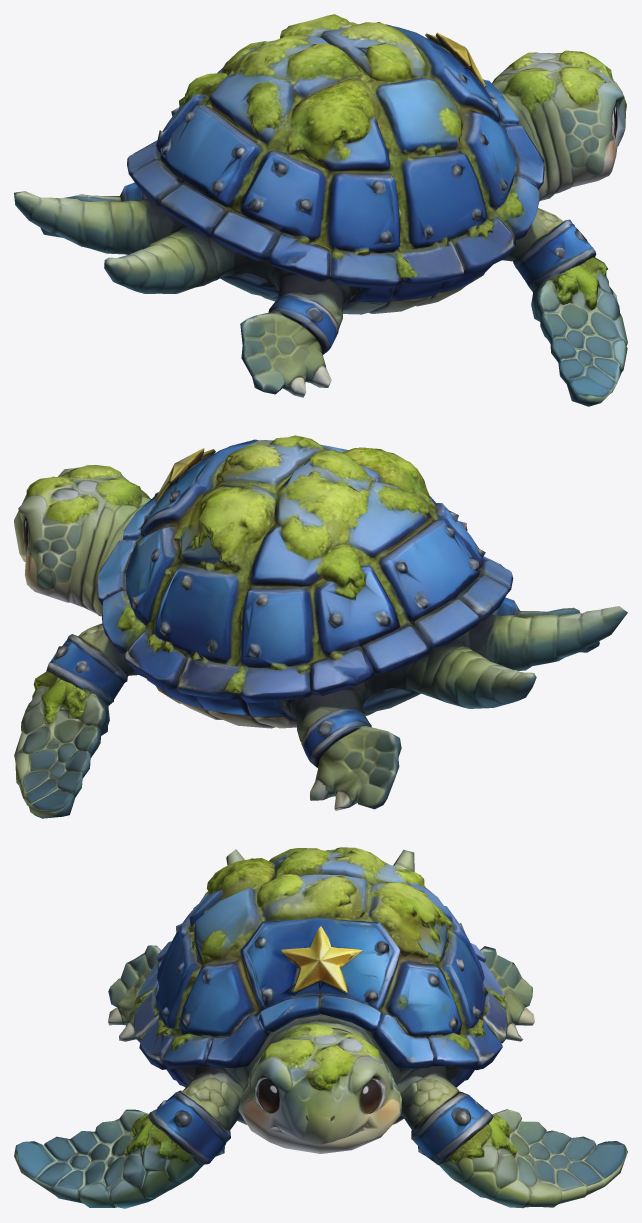
The model's file is turtle-high.glb.
The picture shows the model from 3 angles, top to bottom: view 1: azimuth 30°, elevation 25°; view 2: azimuth 150°, elevation 25°; view 3: azimuth 270°, elevation 25°; orthographic projection. The views are drawn at different scales.
Parts seen in each view (by area): view 1: tripo_node_f0162955-2451-4fa8-b378-97d14d8e7c7d; view 2: tripo_node_f0162955-2451-4fa8-b378-97d14d8e7c7d; view 3: tripo_node_f0162955-2451-4fa8-b378-97d14d8e7c7d.
Part boxes in pixels (x1=…): tripo_node_f0162955-2451-4fa8-b378-97d14d8e7c7d: x1=14, y1=14, x2=627, y2=406; tripo_node_f0162955-2451-4fa8-b378-97d14d8e7c7d: x1=14, y1=435, x2=627, y2=818; tripo_node_f0162955-2451-4fa8-b378-97d14d8e7c7d: x1=14, y1=847, x2=627, y2=1208.
Size of the model in its own units: 0.9975 by 0.4868 by 0.9913.
Materials: 1 (1 with a texture image).
